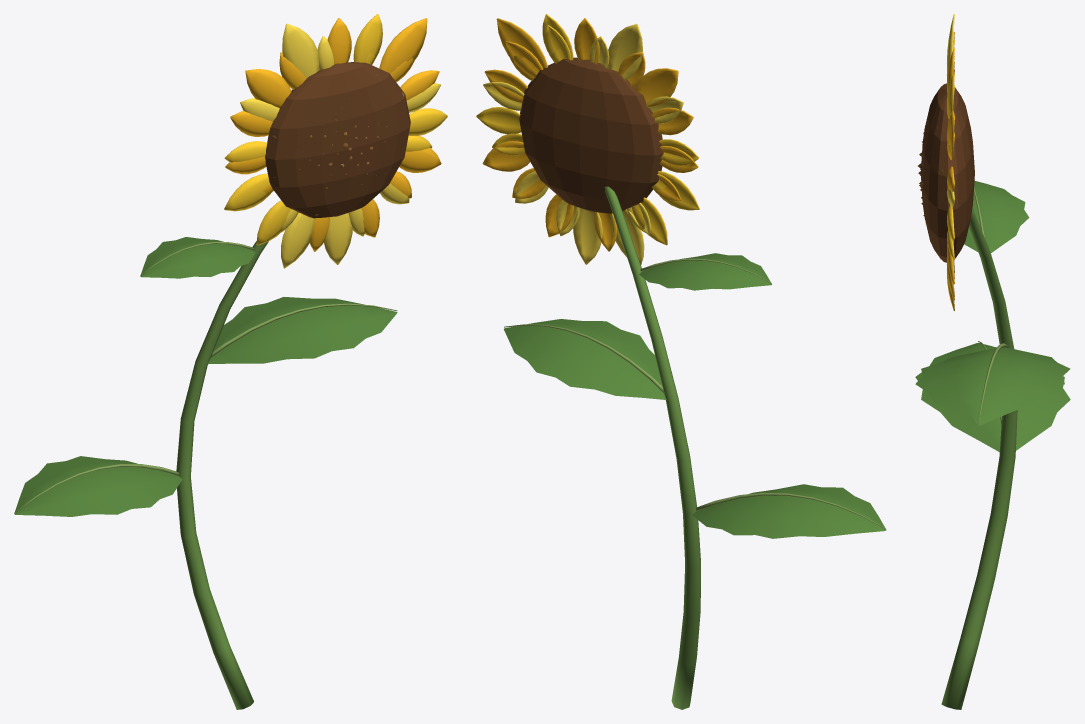
The model's file is sunflower-v2-bloom-2-3.glb.
The picture shows the model from 3 angles, left to right: view 1: azimuth 30°, elevation 25°; view 2: azimuth 150°, elevation 25°; view 3: azimuth 270°, elevation 25°; orthographic projection. The views are drawn at different scales.
Visible parts, largest first — view 1: Curved tapered stem; view 2: Curved tapered stem; view 3: Curved tapered stem.
Part boxes in pixels (left/top/right/bottom): Curved tapered stem: left=14, top=14, right=447, bottom=709; Curved tapered stem: left=476, top=14, right=886, bottom=709; Curved tapered stem: left=915, top=14, right=1070, bottom=709.
Bounding box in the file's own units: 0.44 × 0.6715 × 0.1317.
